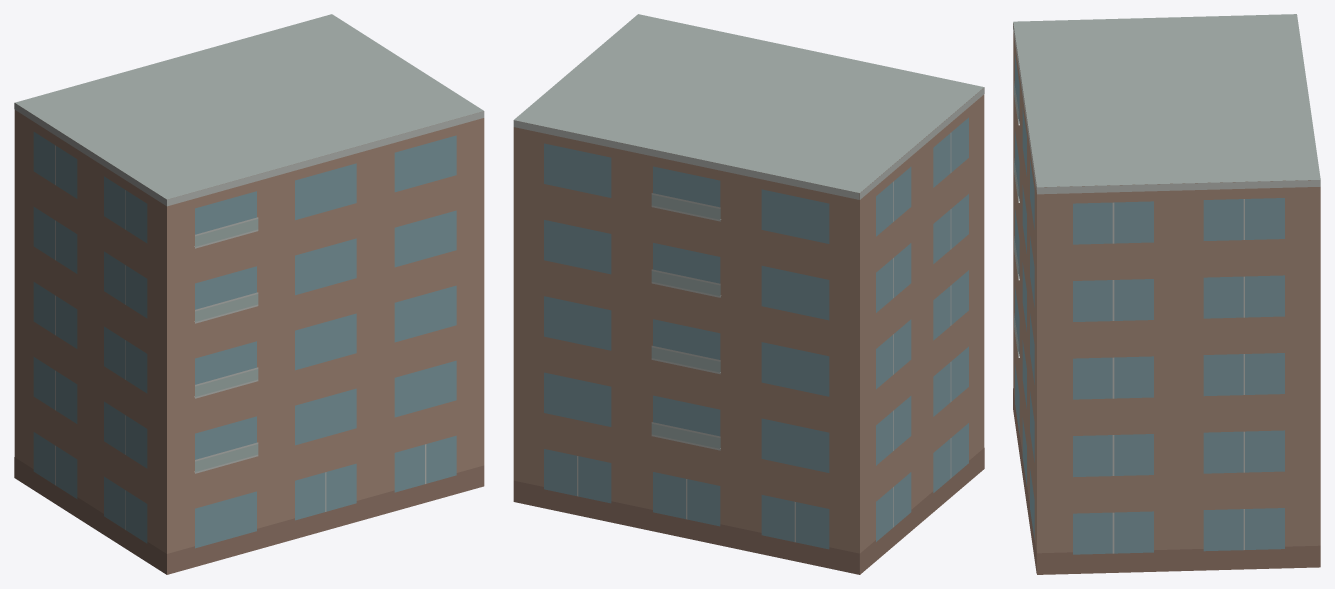
Rendered from survey-upis-32703862.glb.
The picture shows the model from 3 angles, left to right: view 1: azimuth 30°, elevation 25°; view 2: azimuth 150°, elevation 25°; view 3: azimuth 270°, elevation 25°; orthographic projection. The views are drawn at different scales.
Parts seen in each view (by area): view 1: survey-upis-32703862.tmp; view 2: survey-upis-32703862.tmp; view 3: survey-upis-32703862.tmp.
Boxes of the visible parts, x1,y1,x2,y2 form: survey-upis-32703862.tmp: (14,14,484,574); survey-upis-32703862.tmp: (513,14,984,574); survey-upis-32703862.tmp: (1013,14,1320,574).
Size of the model in its own units: 12.91 by 13.45 by 9.69.
